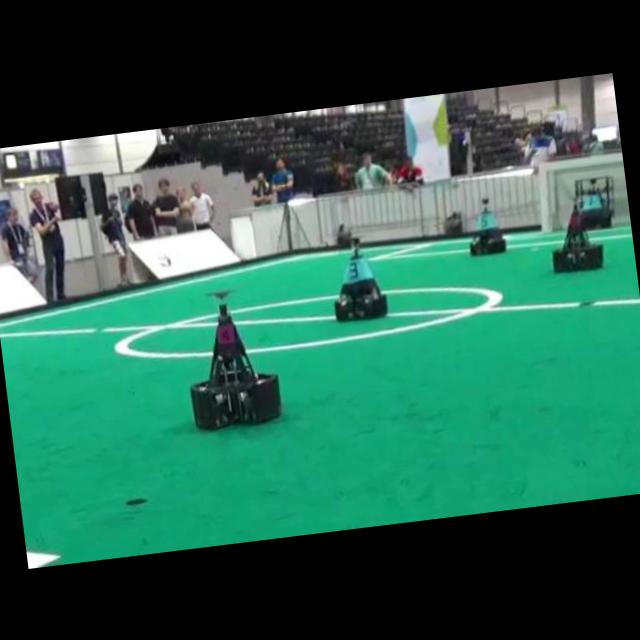goal: (538, 160, 551, 231)
robot: (190, 291, 281, 428), (334, 237, 387, 318), (552, 205, 603, 271), (574, 177, 614, 227), (469, 204, 505, 253)
